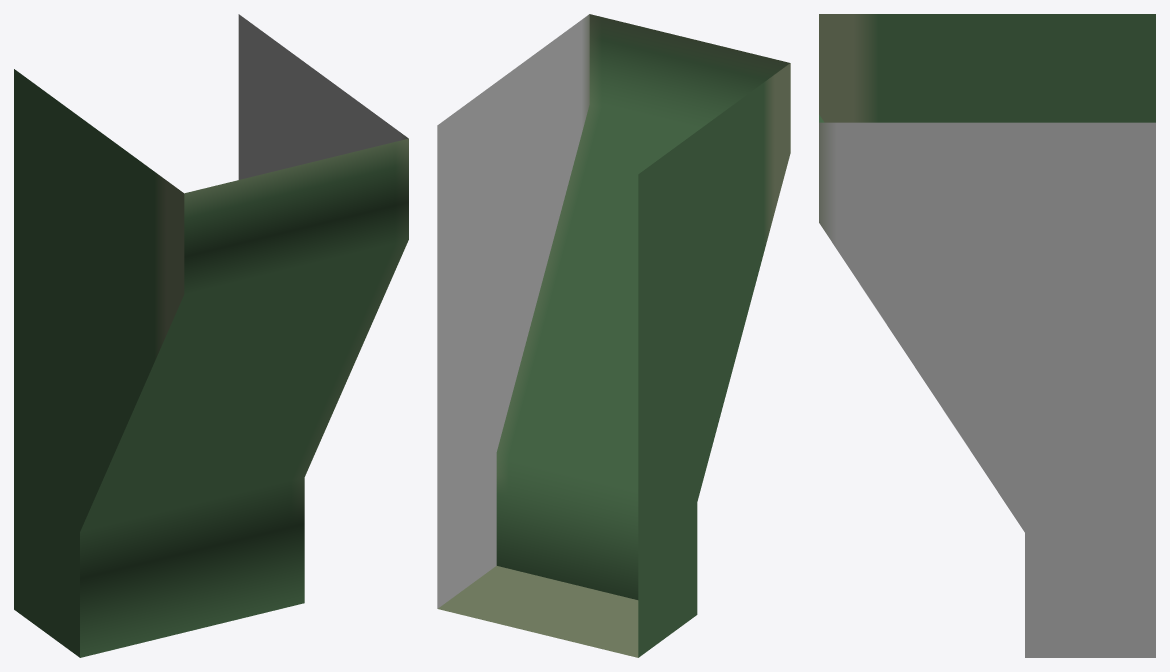
The model's file is 2W_3F_building_parts4.fbx.
The picture shows the model from 3 angles, left to right: view 1: azimuth 30°, elevation 25°; view 2: azimuth 150°, elevation 25°; view 3: azimuth 270°, elevation 25°; orthographic projection. The views are drawn at different scales.
Visible parts, largest first — view 1: Object142; view 2: Object142; view 3: Object142.
Boxes of the visible parts, x1=… form: Object142: x1=14, y1=14, x2=408, y2=657; Object142: x1=437, y1=14, x2=790, y2=657; Object142: x1=819, y1=14, x2=1155, y2=657.
Size of the model in its own units: 71.06 by 163 by 93.22.
